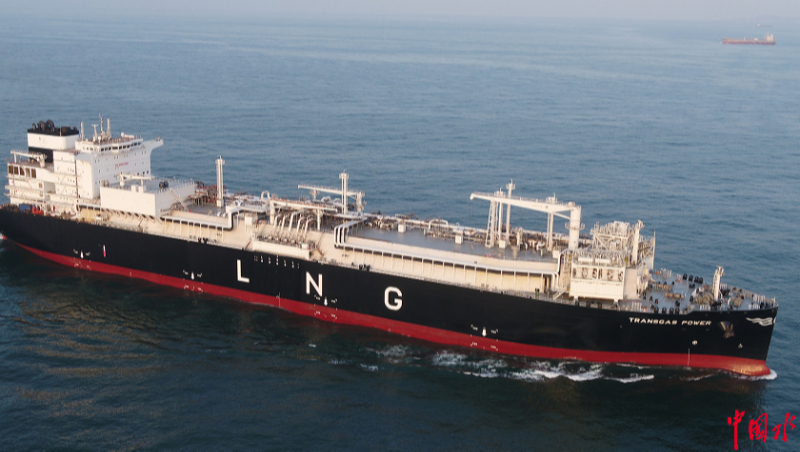Cargoship: (1, 118, 789, 382)
